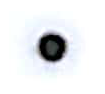cancer: (15, 12, 88, 83)
